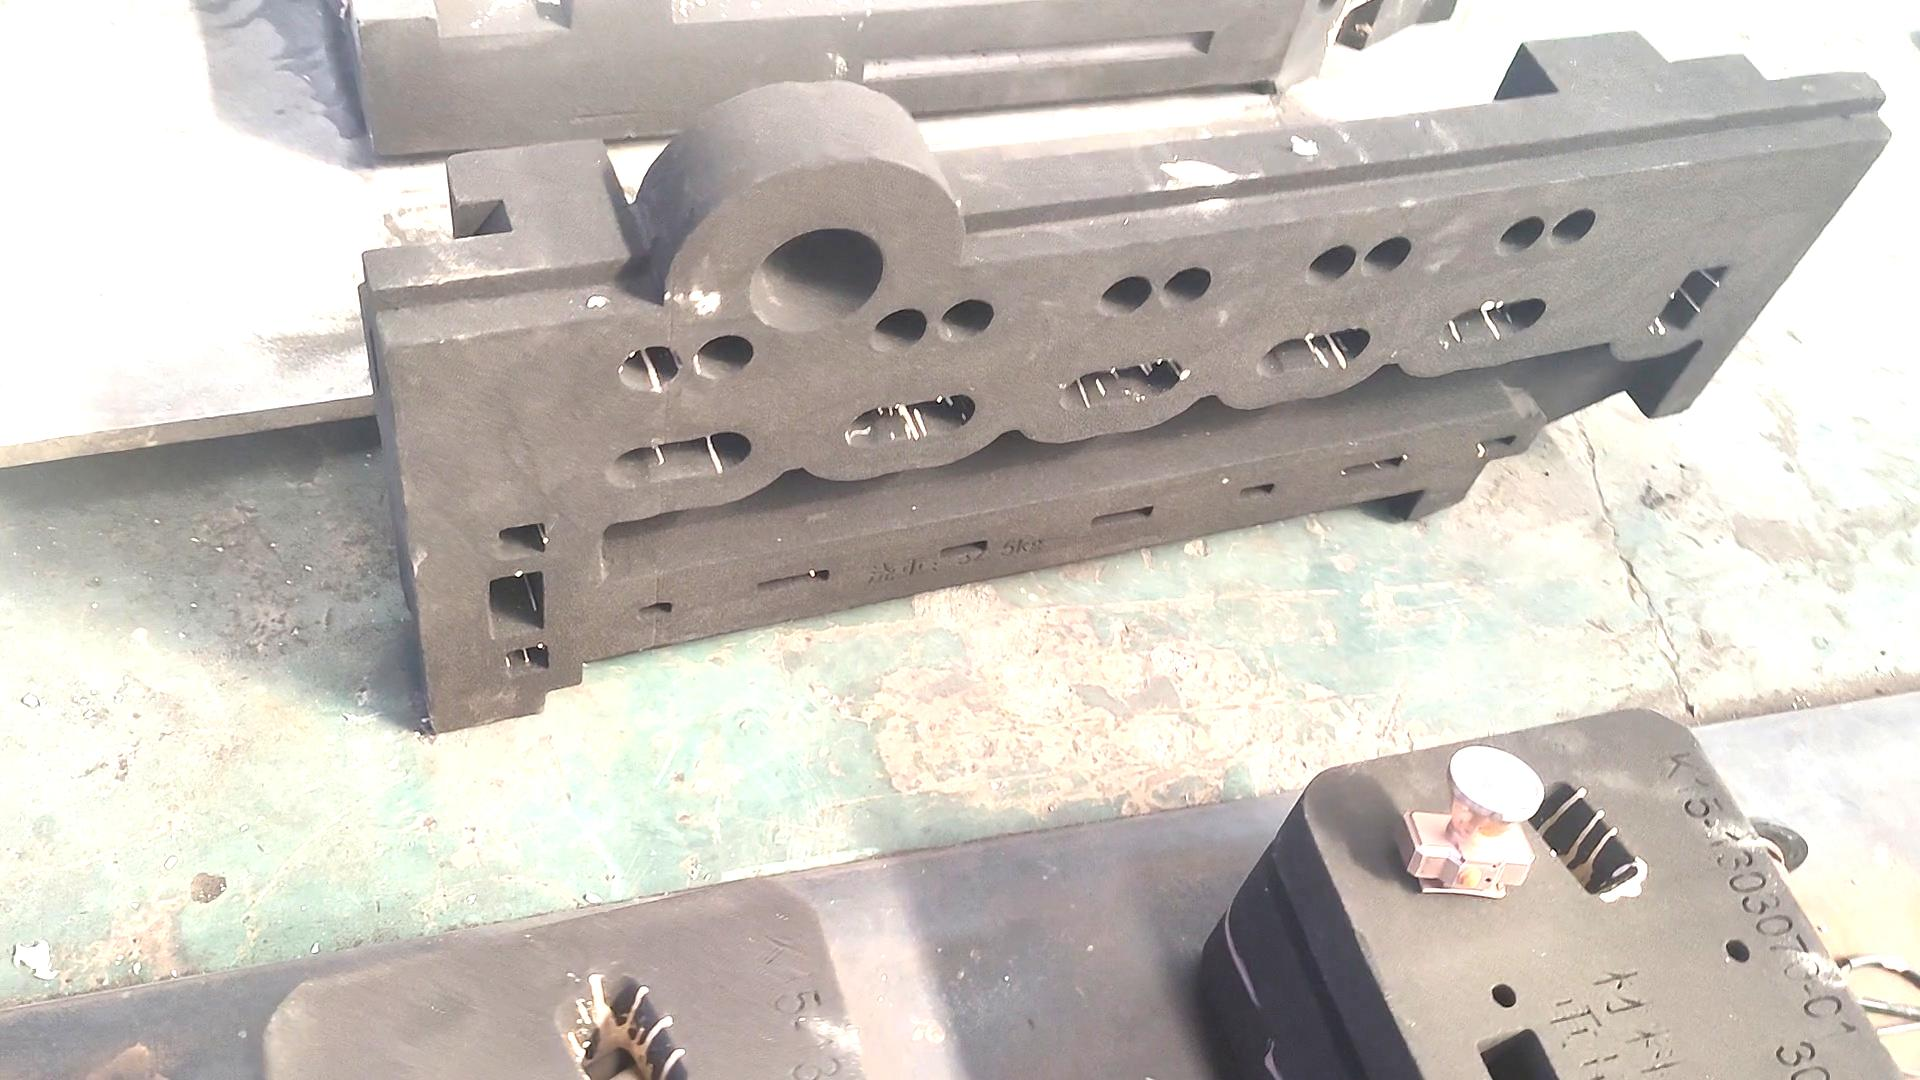pouring hole: (749, 228, 884, 334)
